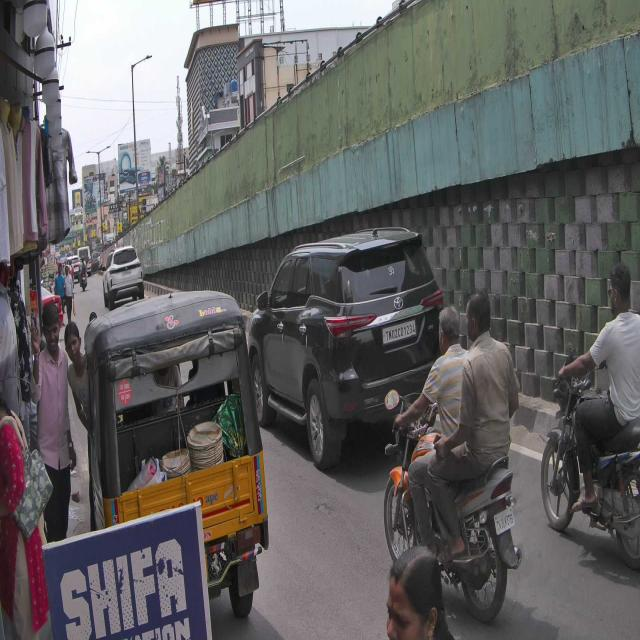double_rider: (383, 285, 523, 615)
single_rider: (538, 262, 640, 569)
